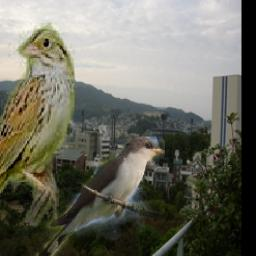Cuckoo: (28, 137, 165, 256)
Sparrow: (0, 23, 76, 230)
